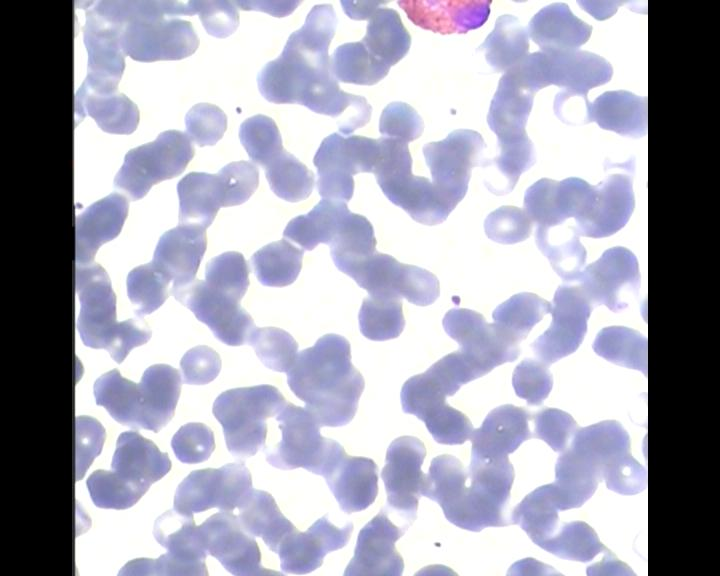eosi: (392, 0, 500, 37)
